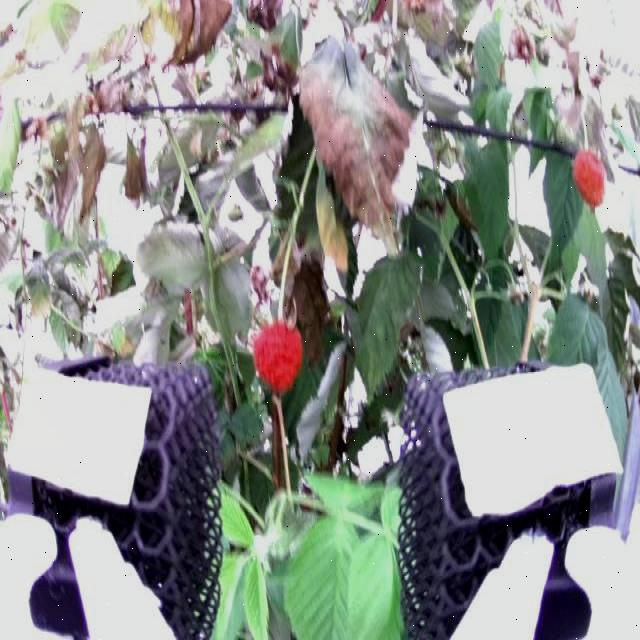Riped berries: (250, 314, 308, 392), (571, 147, 612, 207)
